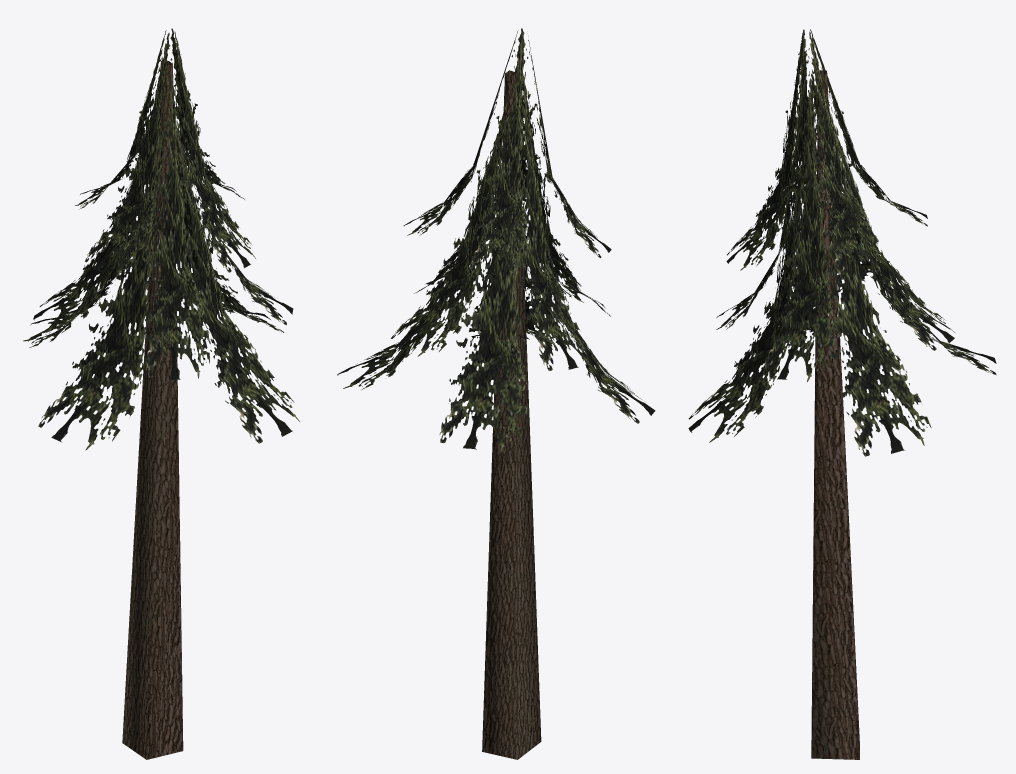
Rendered from LoveDeath_Pine_Art.glb.
3 renders of one model, left to right at view 1: azimuth 30°, elevation 25°; view 2: azimuth 150°, elevation 25°; view 3: azimuth 270°, elevation 25°, orthographic. The views are drawn at different scales.
Parts seen in each view (by area): view 1: LoveDeath_Pine_Art; view 2: LoveDeath_Pine_Art; view 3: LoveDeath_Pine_Art.
Boxes of the visible parts, x1,y1,x2,y2 form: LoveDeath_Pine_Art: (23,28,299,759); LoveDeath_Pine_Art: (337,28,655,759); LoveDeath_Pine_Art: (688,29,996,759).
Size of the model in its own units: 3.52 by 8.98 by 3.51.
2 materials, 2 textured.
